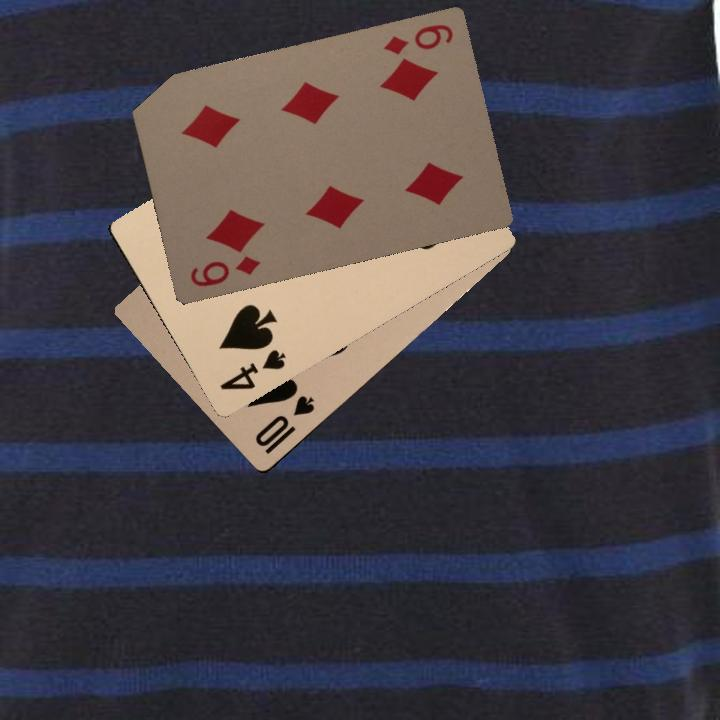10s: (251, 391, 318, 457)
4s: (216, 344, 288, 393)
6d: (186, 252, 263, 290), (379, 20, 456, 58)
